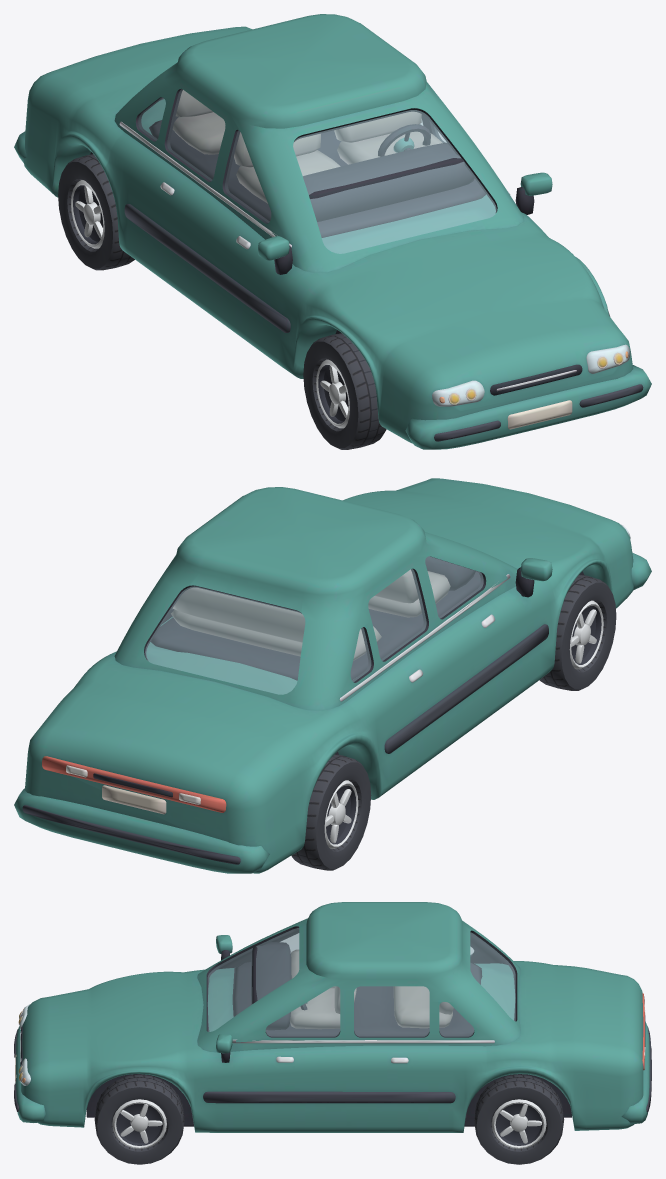
Rendered from autobahn.glb.
3 renders of one model, top to bottom at view 1: azimuth 30°, elevation 25°; view 2: azimuth 150°, elevation 25°; view 3: azimuth 270°, elevation 25°, orthographic. The views are drawn at different scales.
Parts seen in each view (by area): view 1: 1990s-sedan_body, 1990s-sedan_windows, 1990s-sedan_wheel_fr, 1990s-sedan_wheel_rr; view 2: 1990s-sedan_body, 1990s-sedan_windows, 1990s-sedan_wheel_rr, 1990s-sedan_wheel_fr; view 3: 1990s-sedan_body, 1990s-sedan_windows, 1990s-sedan_wheel_fl, 1990s-sedan_wheel_rl.
Boxes of the visible parts, left/top/right/bottom form: 1990s-sedan_body: left=14, top=14, right=651, bottom=449; 1990s-sedan_windows: left=138, top=89, right=496, bottom=253; 1990s-sedan_wheel_fr: left=303, top=333, right=386, bottom=449; 1990s-sedan_wheel_rr: left=58, top=154, right=134, bottom=270; 1990s-sedan_body: left=14, top=478, right=651, bottom=873; 1990s-sedan_windows: left=145, top=556, right=483, bottom=694; 1990s-sedan_wheel_rr: left=291, top=754, right=371, bottom=870; 1990s-sedan_wheel_fr: left=539, top=574, right=616, bottom=690; 1990s-sedan_body: left=14, top=902, right=651, bottom=1132; 1990s-sedan_windows: left=208, top=928, right=515, bottom=1036; 1990s-sedan_wheel_fl: left=94, top=1074, right=184, bottom=1164; 1990s-sedan_wheel_rl: left=474, top=1074, right=564, bottom=1164.
Bounding box in the file's own units: 1.9 × 1.5 × 4.67.
18 materials, 5 textured.
